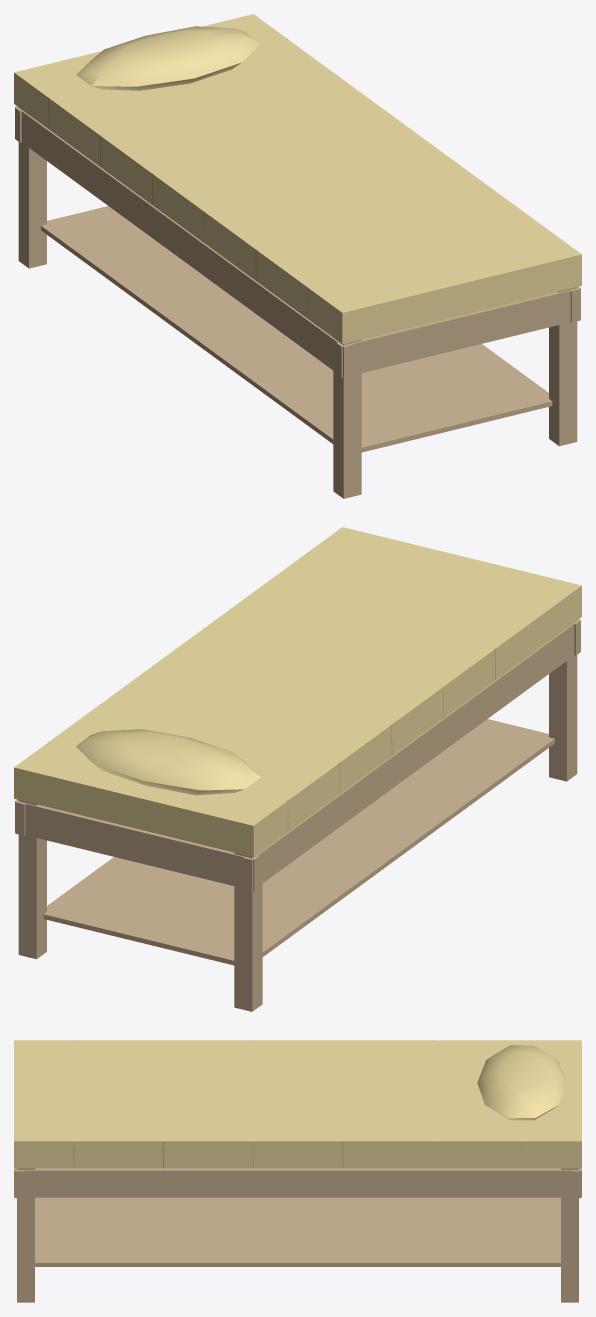
The model's file is therapy_bed.fbx.
3 views of the same model, one above another, from view 1: azimuth 30°, elevation 25°; view 2: azimuth 150°, elevation 25°; view 3: azimuth 270°, elevation 25° (orthographic). The views are drawn at different scales.
Parts seen in each view (by area): view 1: therapy_bed; view 2: therapy_bed; view 3: therapy_bed.
Boxes of the visible parts, <box> form: therapy_bed: <box>14,14,581,498</box>; therapy_bed: <box>14,527,581,1011</box>; therapy_bed: <box>14,1040,581,1302</box>.
Bounding box in the file's own units: 80 × 67.92 × 190.
